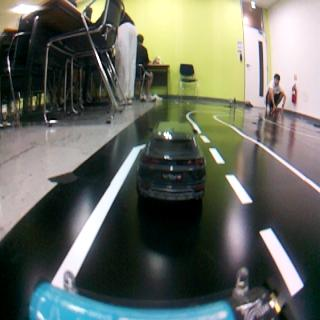car: (134, 119, 210, 216)
